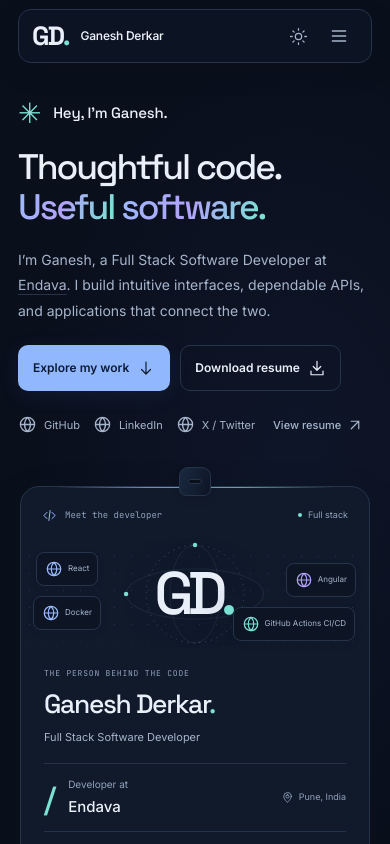
Test: theme persists and mobile navigation closes with Escape or navigation
Step 1. Click the button named "Switch to light theme" → x=298, y=36, box left=279, top=16, right=317, bottom=56
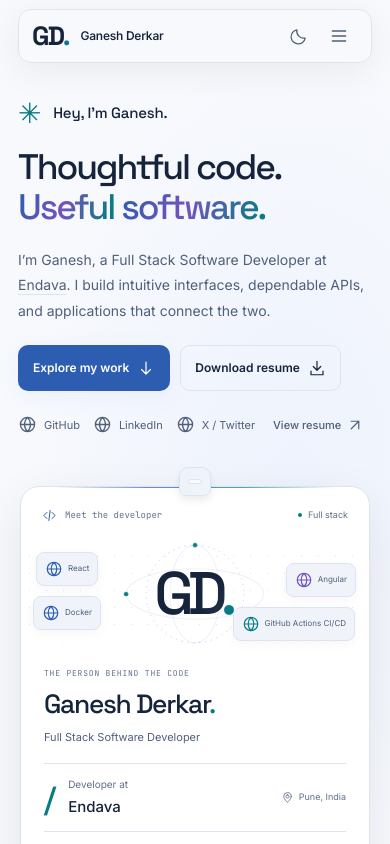
Step 2. Click the button named "Open navigation" → x=339, y=36, box left=320, top=16, right=358, bottom=56
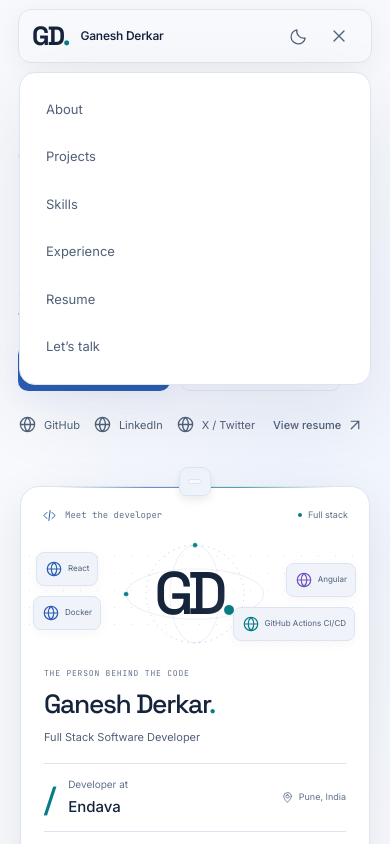
Check: the button named "Close navigation" is expanded, box left=320, top=16, right=358, bottom=56
Step 3. Press Escape
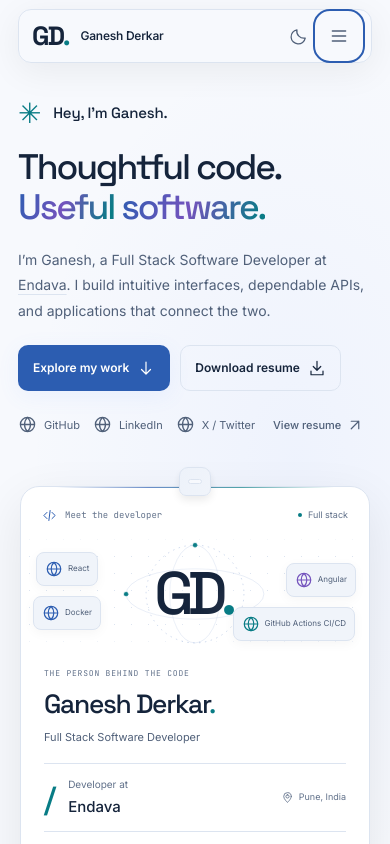
Check: the button named "Open navigation" is collapsed
Step 4. Click the button named "Open navigation" → x=339, y=36, box left=320, top=16, right=358, bottom=56
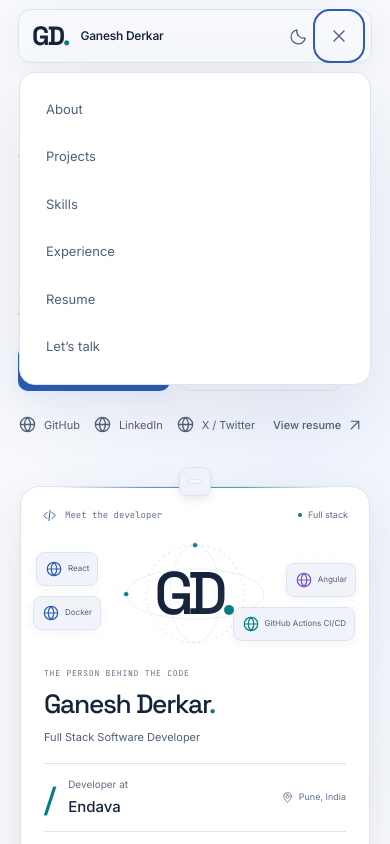
Step 5. Click the link "Projects" → x=71, y=156, box left=46, top=148, right=96, bottom=164
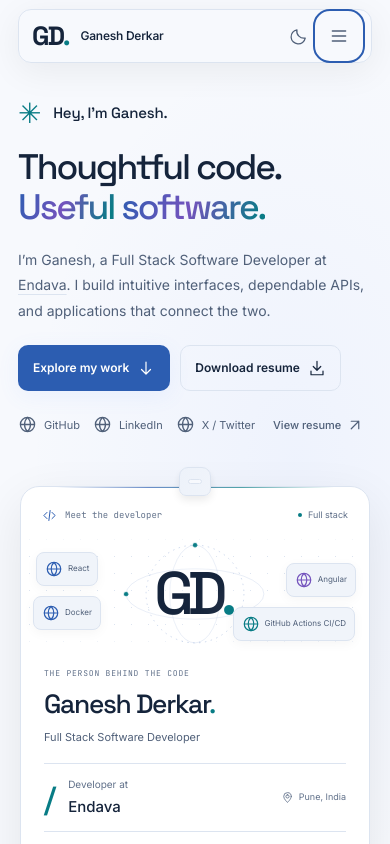
Check: the button named "Open navigation" is collapsed, box left=320, top=16, right=358, bottom=56
